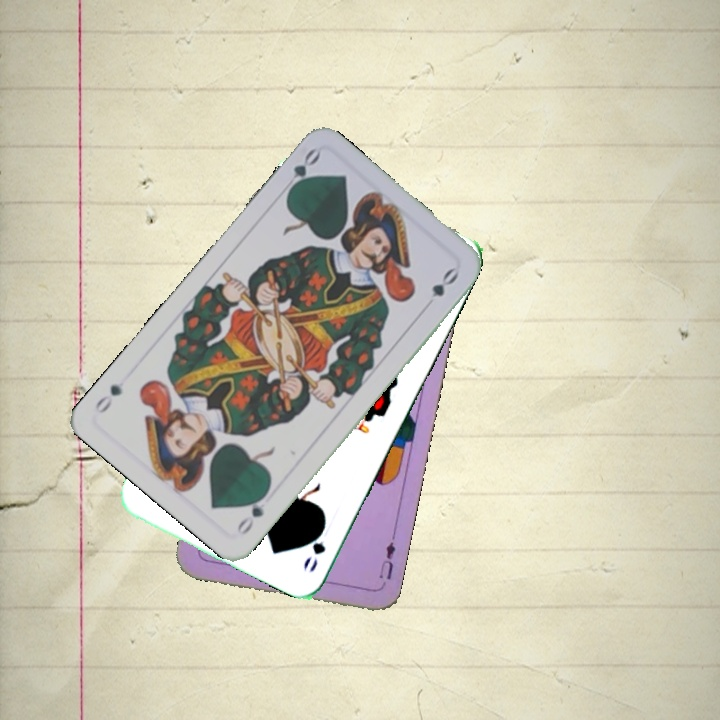EU: (374, 532, 398, 582)
GO: (282, 144, 323, 199), (233, 486, 272, 538), (299, 517, 329, 575)
